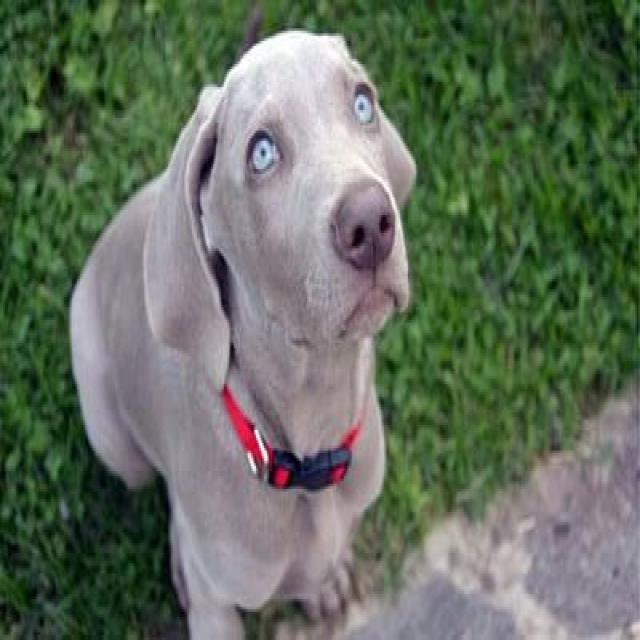Dog: (136, 17, 430, 402)
